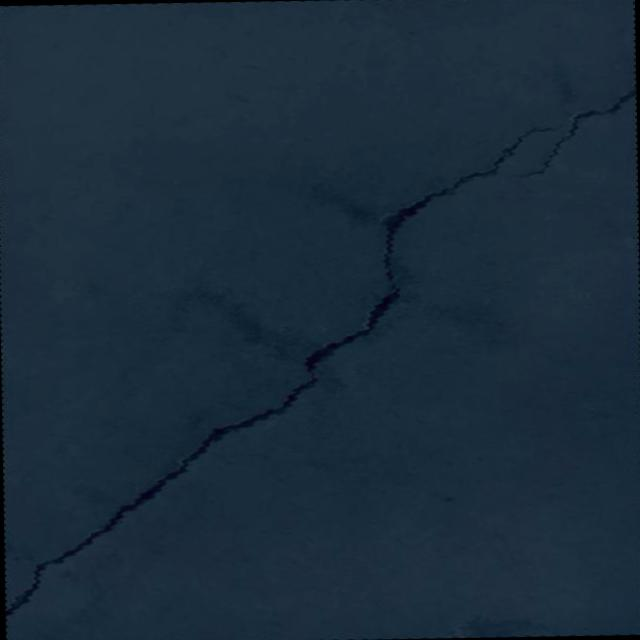crack: (0, 123, 574, 618), (510, 84, 637, 178)
